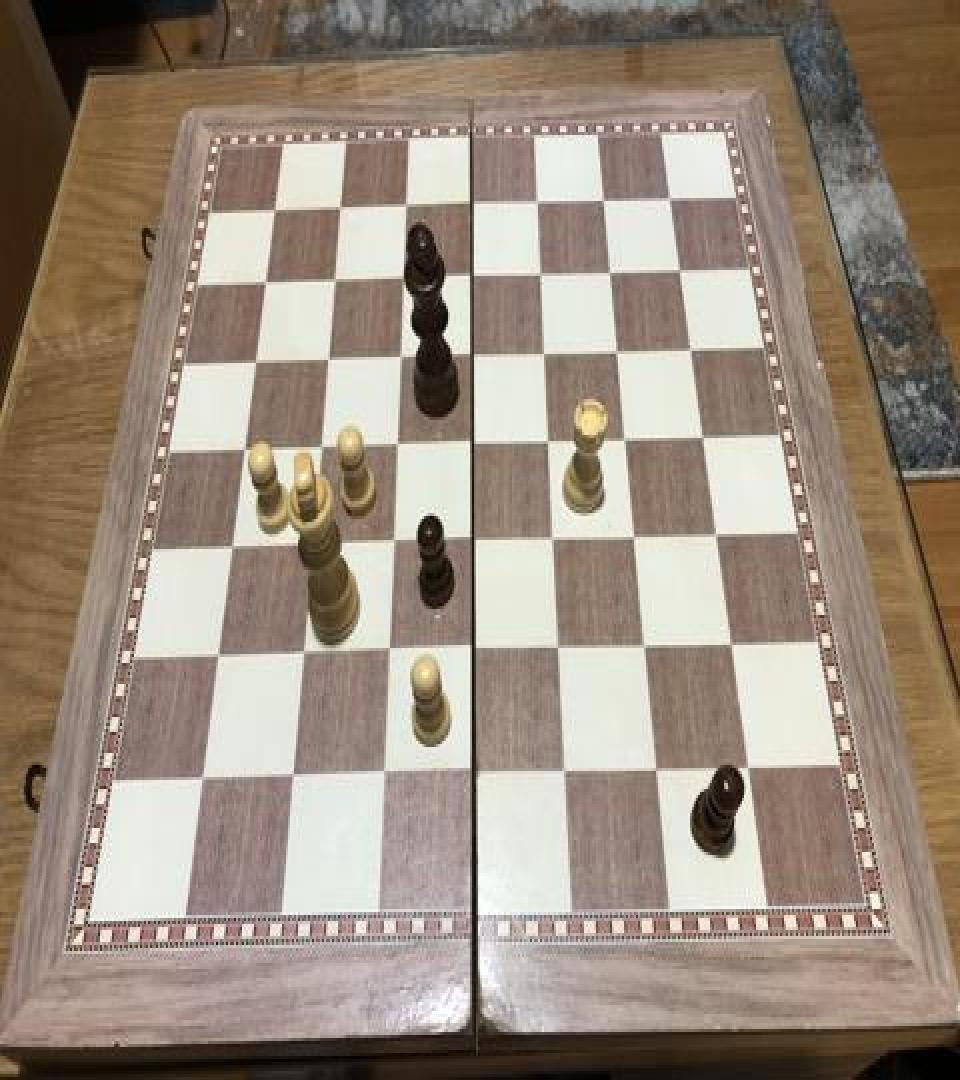xcorner: (627, 520, 651, 557), (466, 631, 490, 668), (466, 754, 490, 791), (662, 186, 686, 222), (465, 189, 489, 225), (400, 190, 424, 226), (334, 192, 358, 228), (269, 192, 293, 228), (671, 256, 695, 292), (603, 258, 627, 294), (465, 261, 489, 297), (397, 261, 421, 297), (328, 262, 352, 298), (259, 264, 283, 300), (682, 334, 706, 370), (610, 336, 634, 372), (538, 338, 562, 374), (466, 339, 490, 375), (393, 340, 417, 376), (321, 342, 345, 378), (249, 342, 273, 378), (694, 422, 718, 458), (618, 423, 642, 459), (542, 424, 566, 460), (466, 426, 490, 462), (390, 428, 414, 464), (313, 429, 337, 465), (707, 519, 731, 555), (546, 522, 570, 558), (466, 524, 490, 560), (385, 525, 409, 561), (305, 526, 329, 562), (224, 528, 248, 564), (722, 627, 746, 663), (637, 628, 661, 664), (551, 630, 575, 666), (381, 633, 405, 669), (295, 634, 319, 670), (210, 636, 234, 672), (739, 750, 763, 786), (648, 752, 672, 788), (557, 753, 581, 789), (375, 756, 399, 792), (284, 759, 308, 795), (193, 760, 217, 796), (596, 188, 620, 223), (531, 188, 555, 223), (534, 260, 558, 295), (237, 431, 261, 466)
